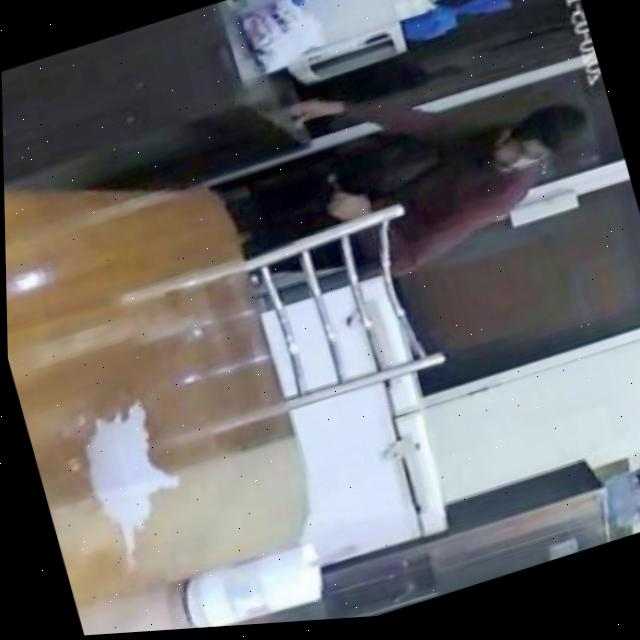spillage: (64, 397, 178, 561)
